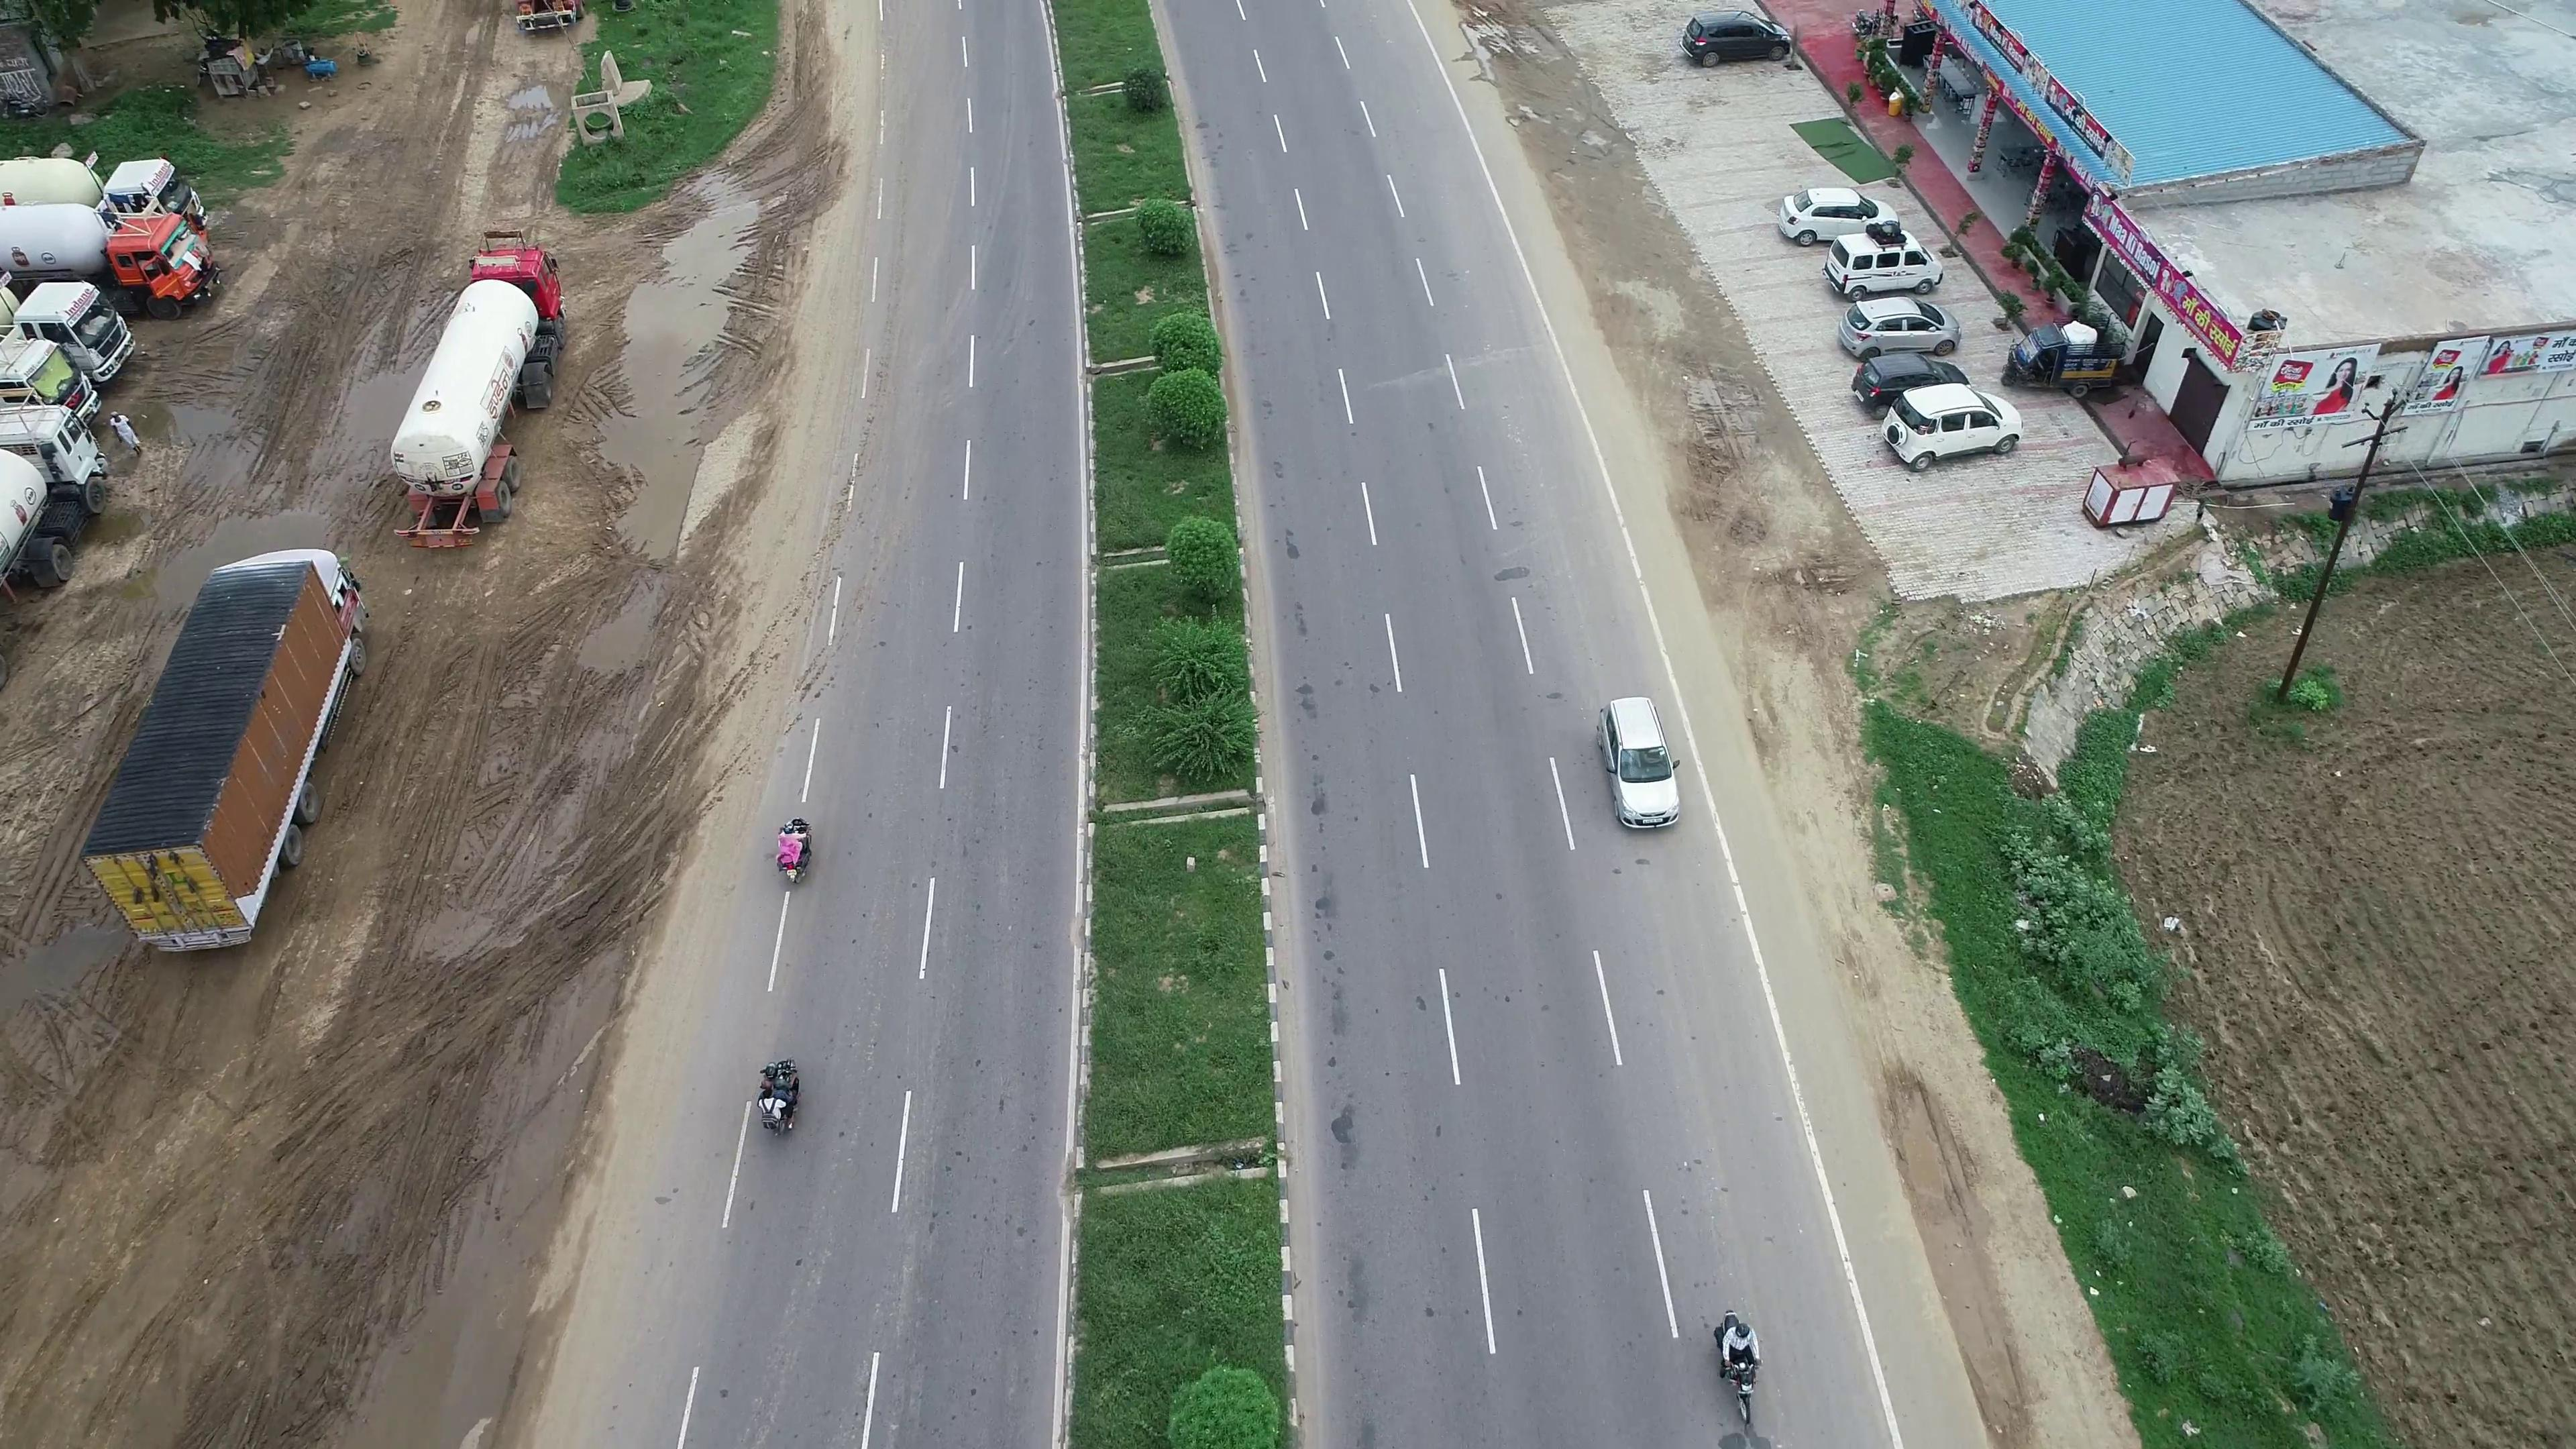Ravelling: (1309, 777, 1366, 1169)
